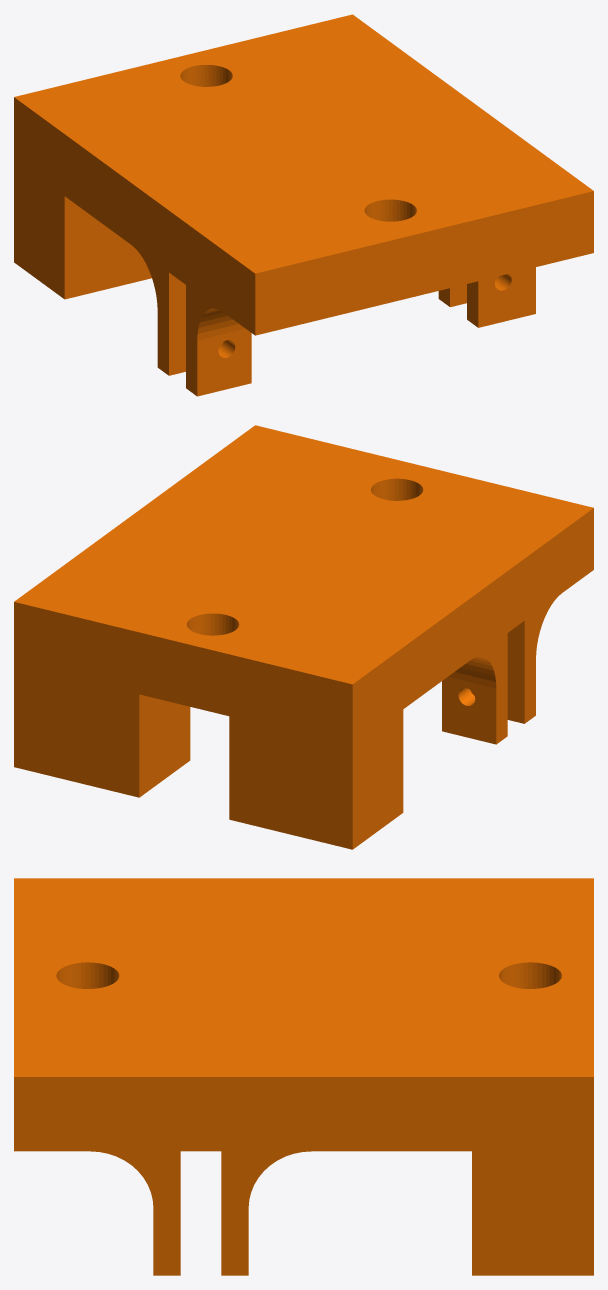
Rendered from connector.glb.
The picture shows the model from 3 angles, top to bottom: view 1: azimuth 30°, elevation 25°; view 2: azimuth 150°, elevation 25°; view 3: azimuth 270°, elevation 25°; orthographic projection. The views are drawn at different scales.
Parts seen in each view (by area): view 1: connector0; view 2: connector0; view 3: connector0.
Boxes of the visible parts, left/top/right/bottom form: connector0: left=14, top=14, right=593, bottom=396; connector0: left=14, top=425, right=593, bottom=849; connector0: left=14, top=878, right=593, bottom=1275.
Bounding box in the file's own units: 34.3 × 16 × 42.33.
